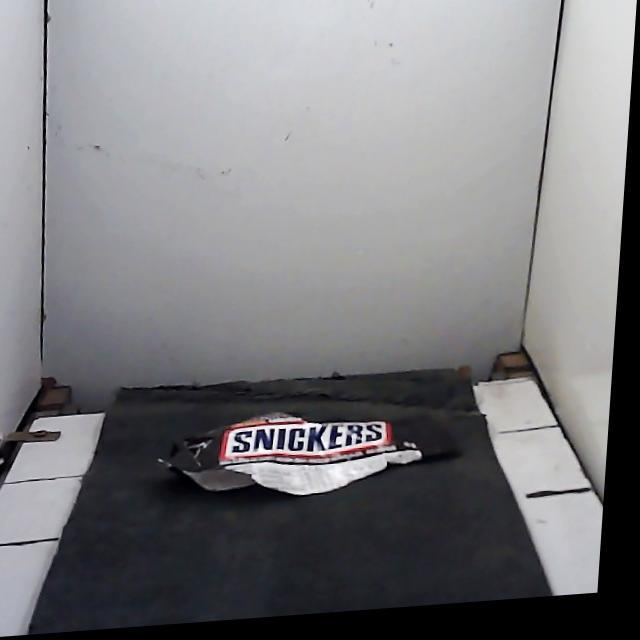plastico: (160, 413, 455, 495)
